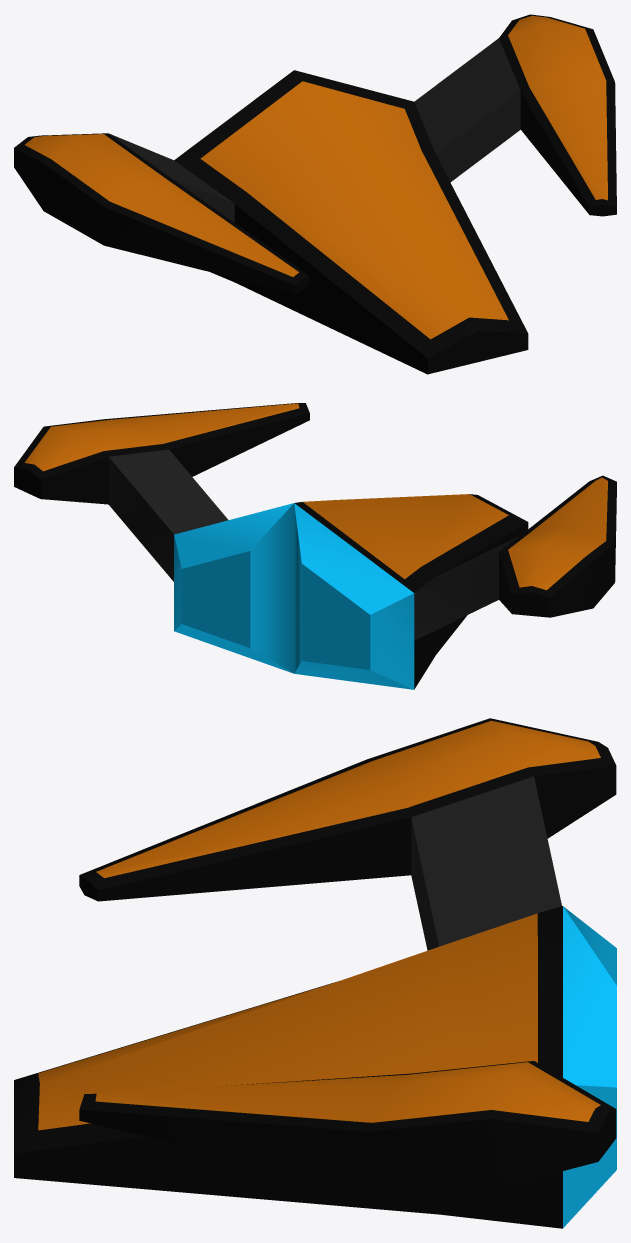
File: EnemyShip1.FBX
3 renders of one model, top to bottom at view 1: azimuth 30°, elevation 25°; view 2: azimuth 150°, elevation 25°; view 3: azimuth 270°, elevation 25°, orthographic. The views are drawn at different scales.
Visible parts, largest first — view 1: Ship1; view 2: Ship1; view 3: Ship1.
Boxes of the visible parts, box(x1,y1,x2,y2) form: Ship1: box(14, 14, 616, 374); Ship1: box(14, 403, 616, 689); Ship1: box(14, 718, 616, 1228).
Bounding box in the file's own units: 59.39 × 17.86 × 37.77.
